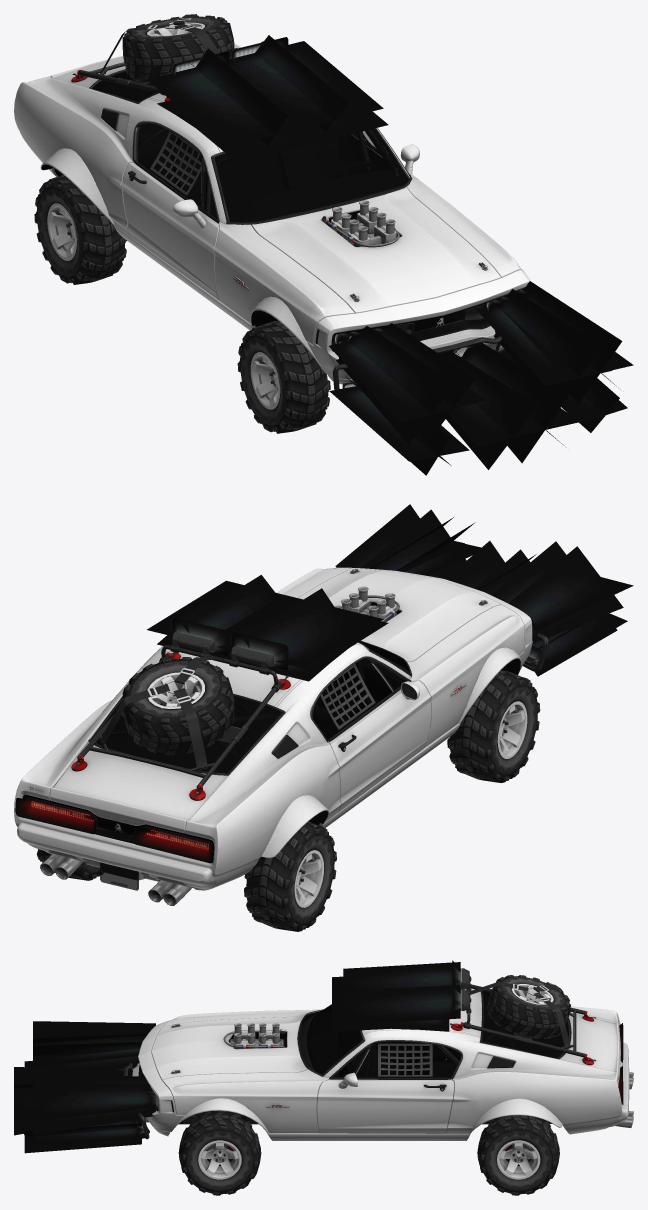
The model's file is equus.glb.
3 renders of one model, top to bottom at view 1: azimuth 30°, elevation 25°; view 2: azimuth 150°, elevation 25°; view 3: azimuth 270°, elevation 25°, orthographic. The views are drawn at different scales.
Visible parts, largest first — view 1: Merged; view 2: Merged; view 3: Merged.
Boxes of the visible parts, <box> form: Merged: <box>14,14,633,475</box>; Merged: <box>14,504,633,931</box>; Merged: <box>14,960,633,1195</box>.
Size of the model in its own units: 2.17 by 1.91 by 6.14.
6 materials, 5 textured.
